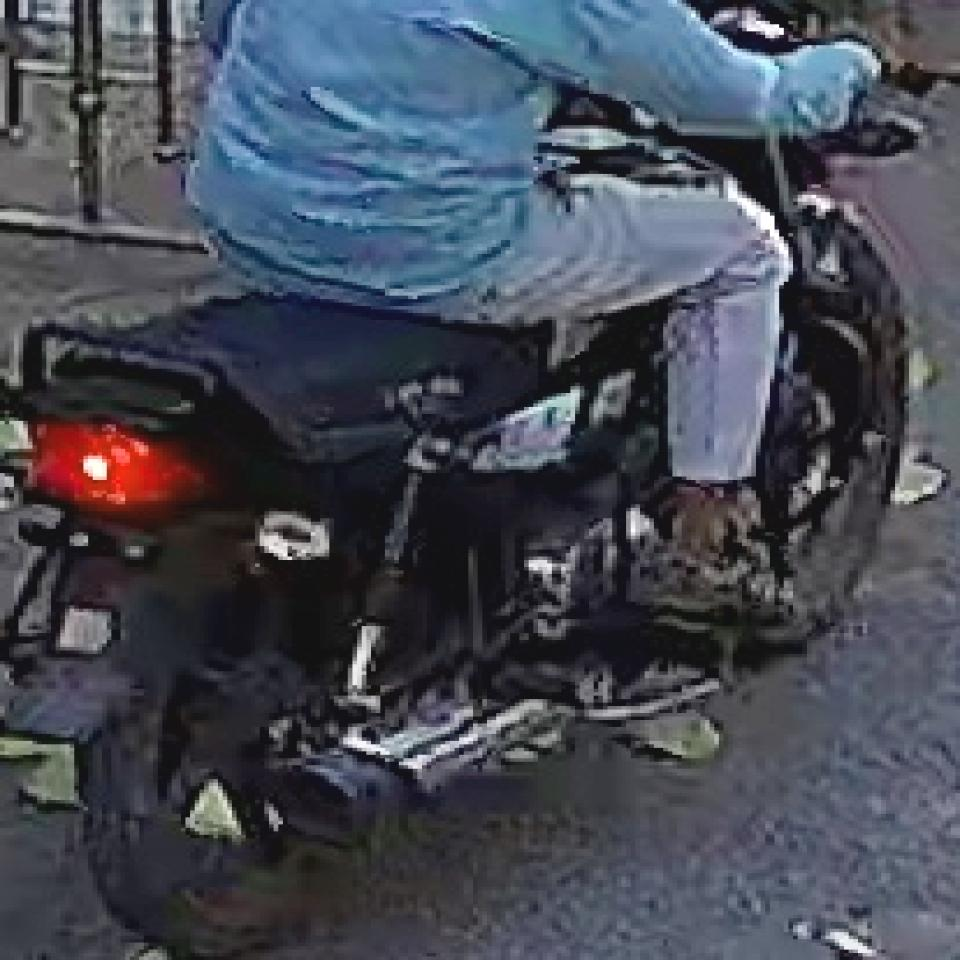tail_light: (27, 413, 199, 506)
